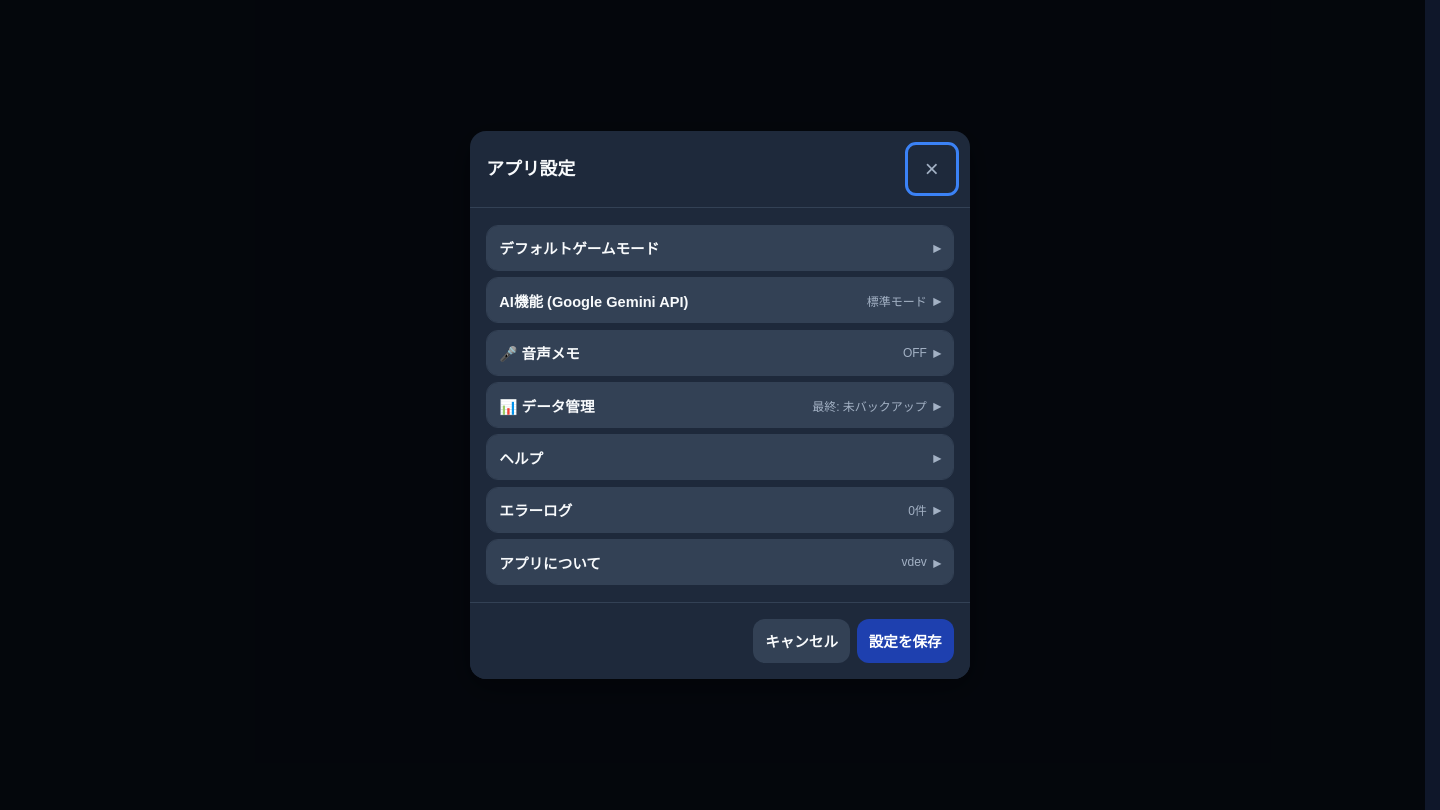
設定: AI写真読込 › 初回ONで外部送信の確認が出る（この時点ではまだ有効化しない）
Click the button "AI機能 (Google Gemini API) 標準モード ▸".
click(594, 302)  # box [487,278,953,322]
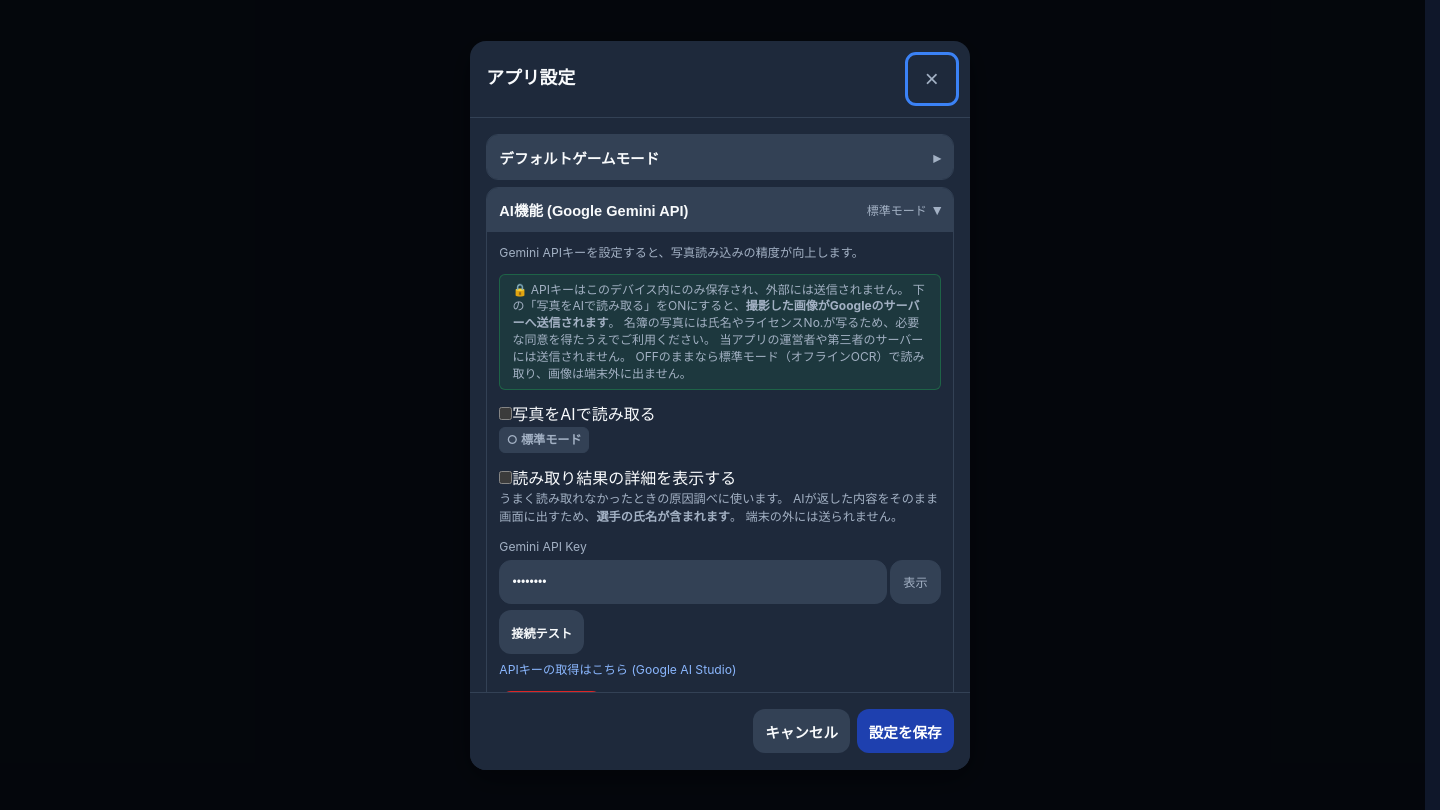
Click the checkbox labelled "写真をAIで読み取る".
click(506, 413)  # box [499,407,512,420]
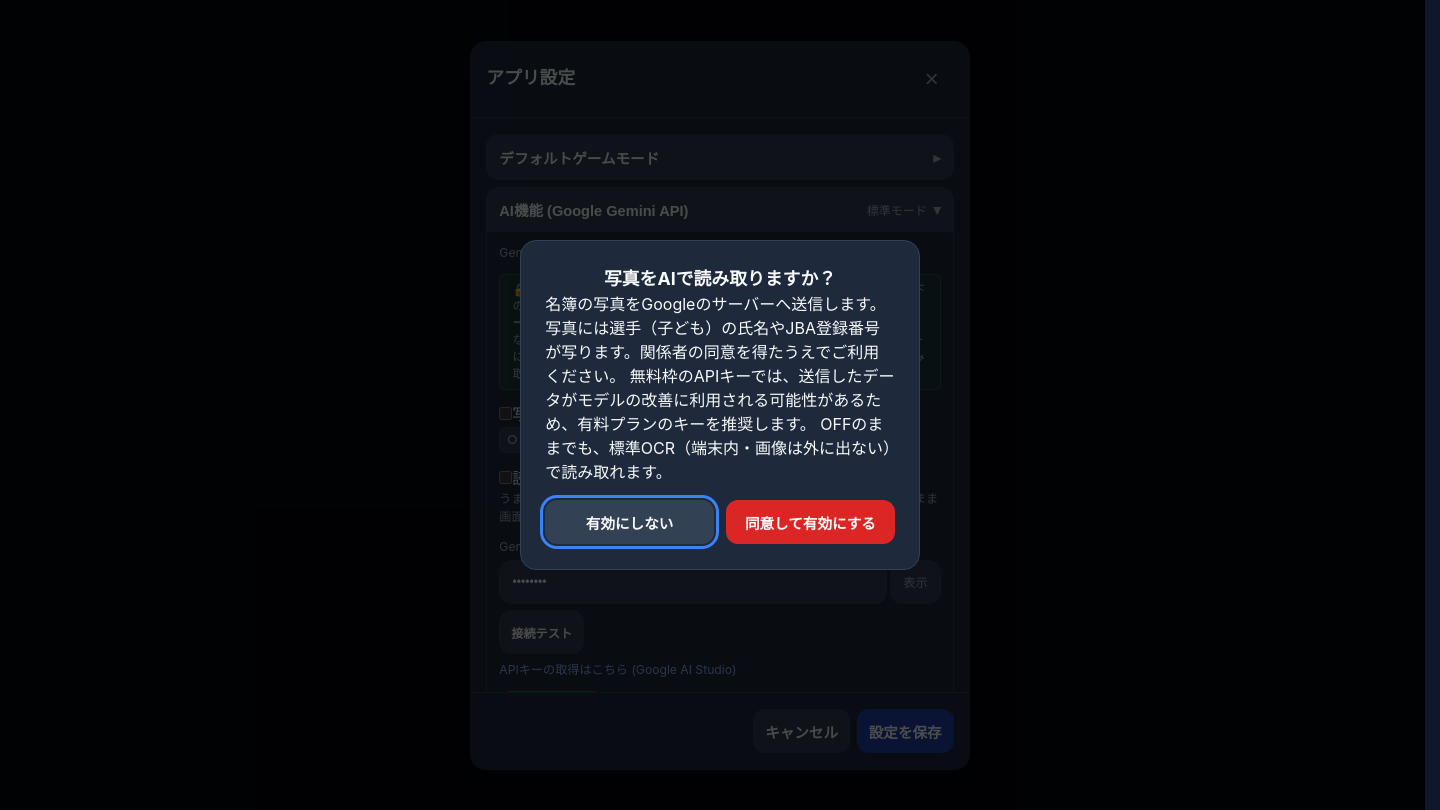
Check: the text "名簿の写真をGoogleのサーバーへ送信します" is shown, box [545,294,894,482]
